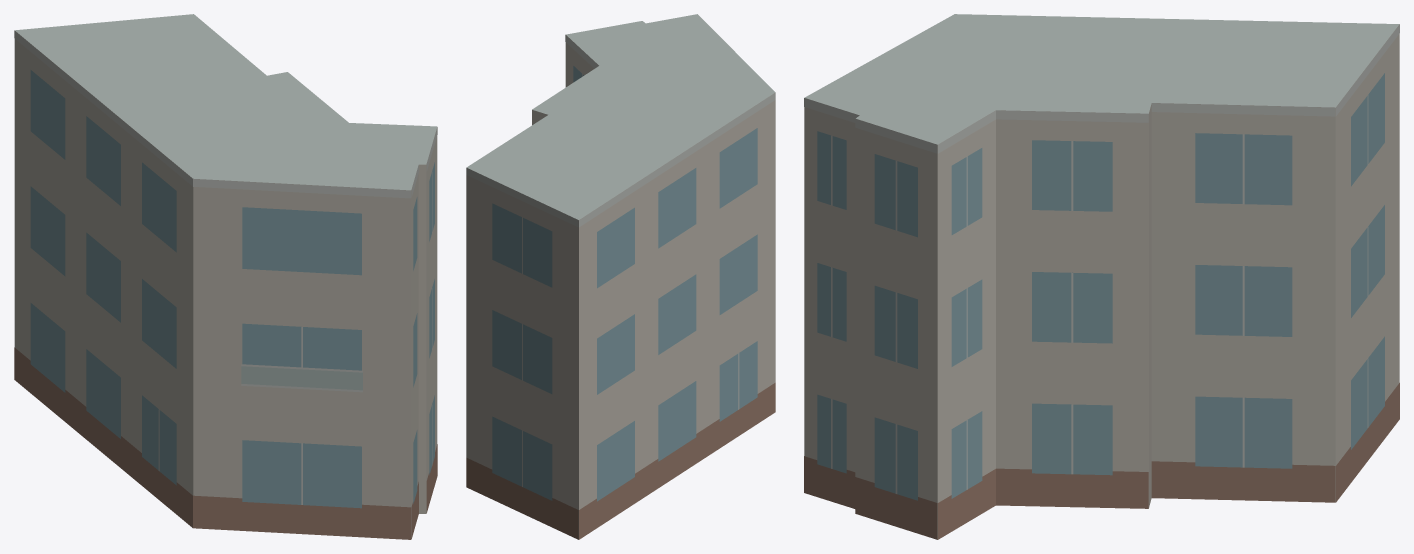
Rendered from survey-upis-32953678.glb.
3 views of the same model, side by side, from view 1: azimuth 30°, elevation 25°; view 2: azimuth 150°, elevation 25°; view 3: azimuth 270°, elevation 25° (orthographic). The views are drawn at different scales.
Parts seen in each view (by area): view 1: survey-upis-32953678.tmp; view 2: survey-upis-32953678.tmp; view 3: survey-upis-32953678.tmp.
Boxes of the visible parts, x1,y1,x2,y2 form: survey-upis-32953678.tmp: (14,14,437,539); survey-upis-32953678.tmp: (466,14,775,539); survey-upis-32953678.tmp: (804,14,1399,539).
Bounding box in the file's own units: 7.49 × 10.55 × 14.42.
